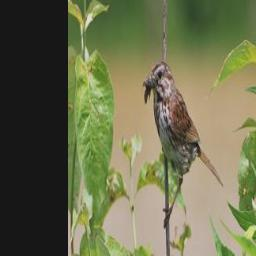Sparrow: (144, 60, 224, 228)
